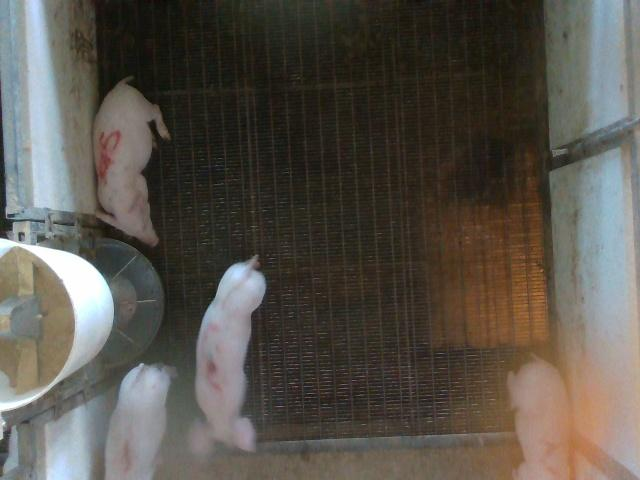pig-1: (105, 364, 175, 478)
pig-2: (508, 356, 570, 478)
pig-3: (189, 255, 266, 457)
pig-5: (94, 76, 170, 246)
